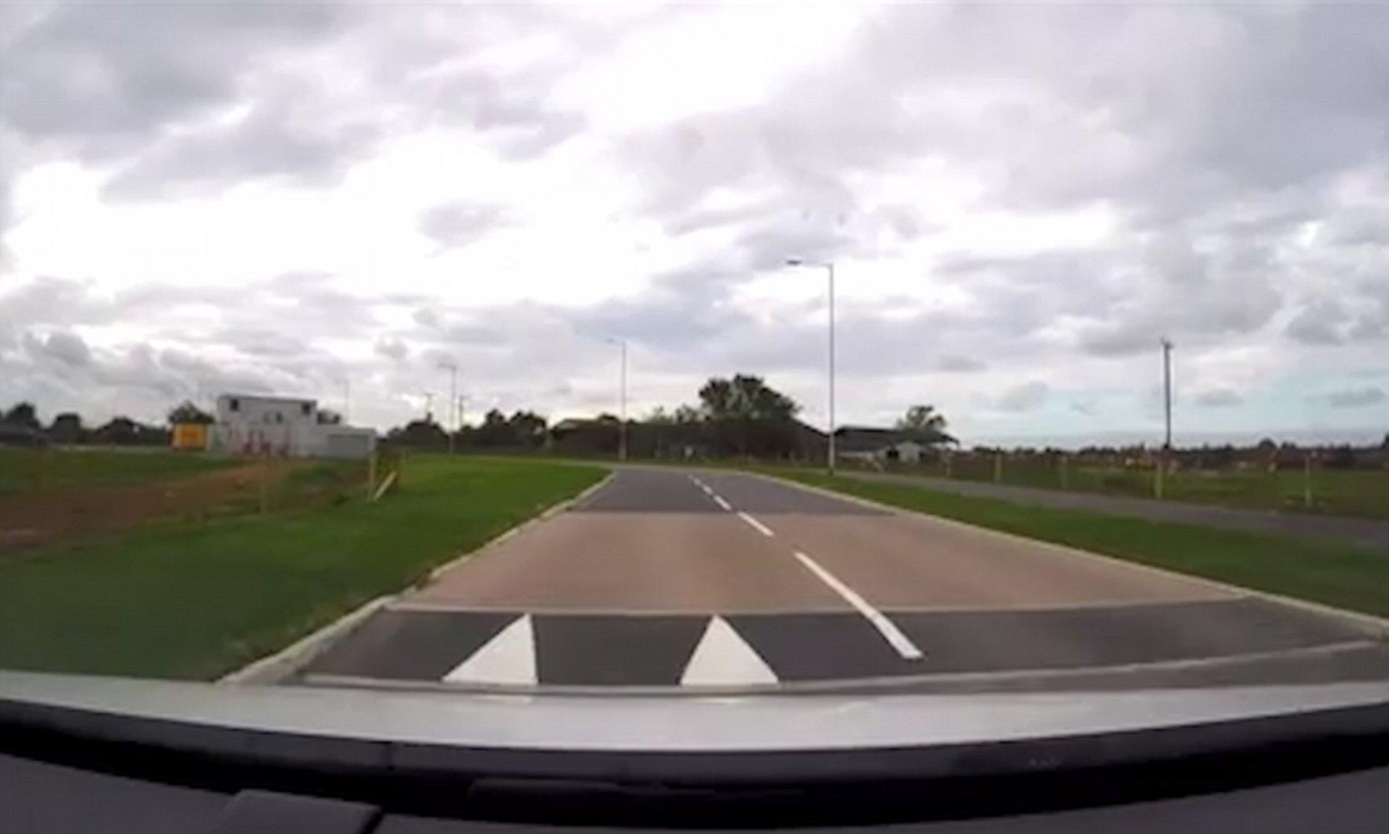Bump: (373, 600, 1376, 660)
